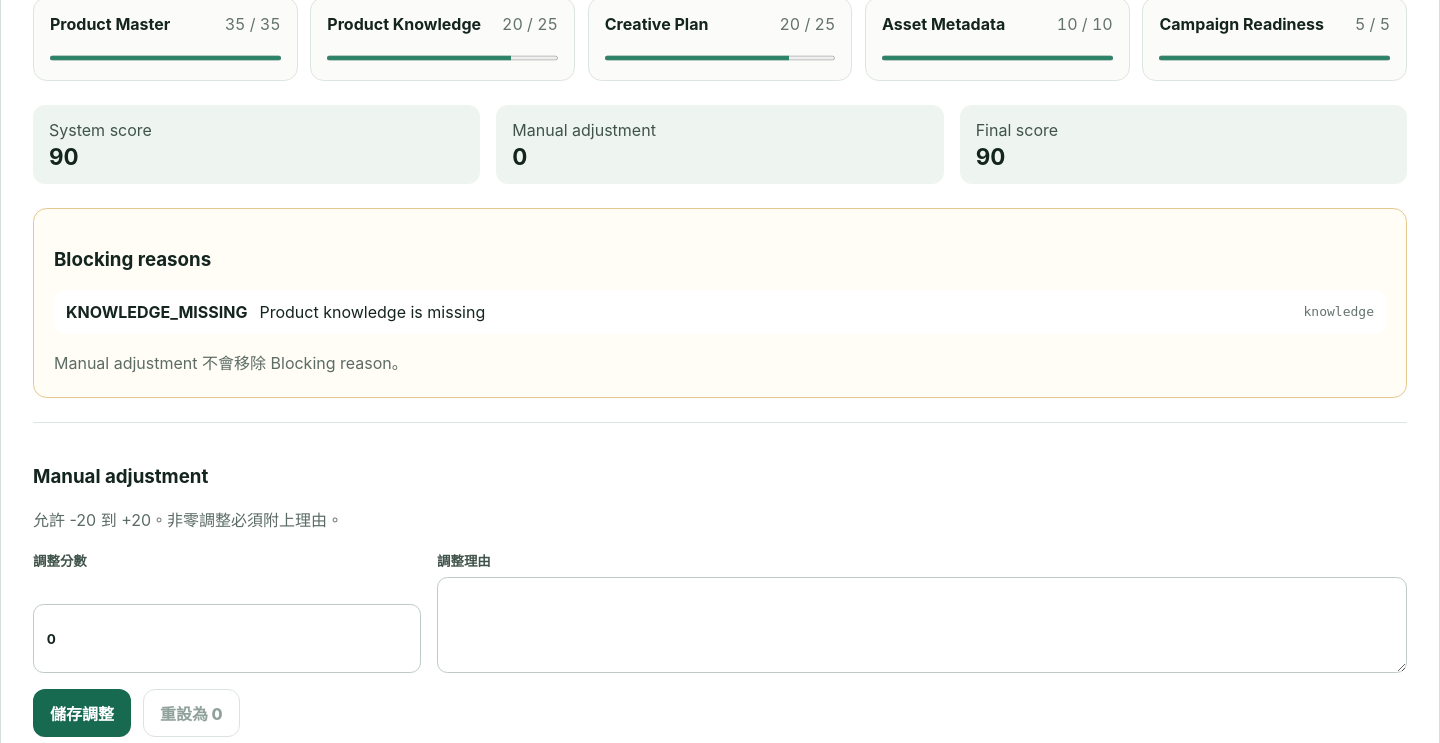
Test: QualityTab › submits a trimmed adjustment with the current ETag and updates the view
(page scrolled)
Replace the text in the number field labelled "調整分數" with "5": (227, 639) left=33, top=604, right=421, bottom=673
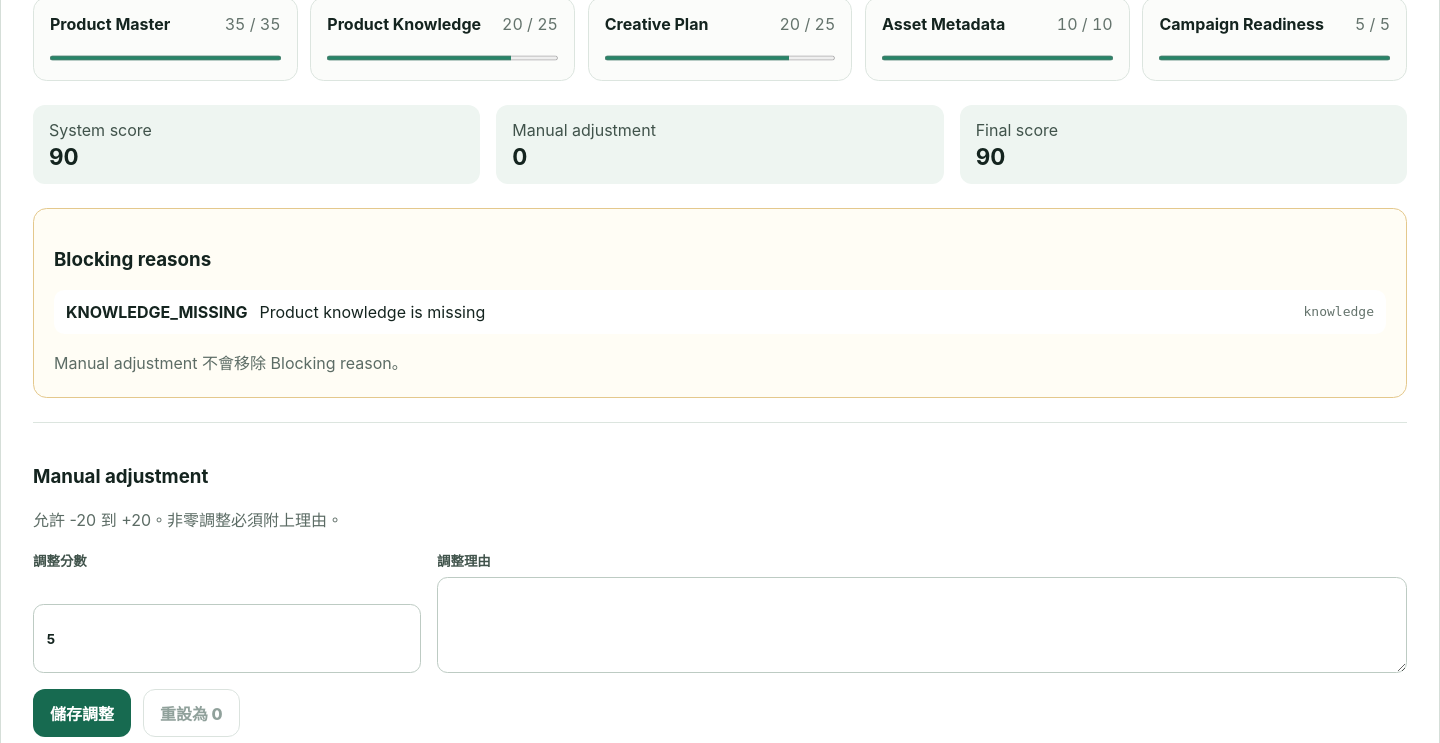
In the text box labelled "調整理由": (922, 625) left=437, top=577, right=1407, bottom=673, type "  Reviewed  "
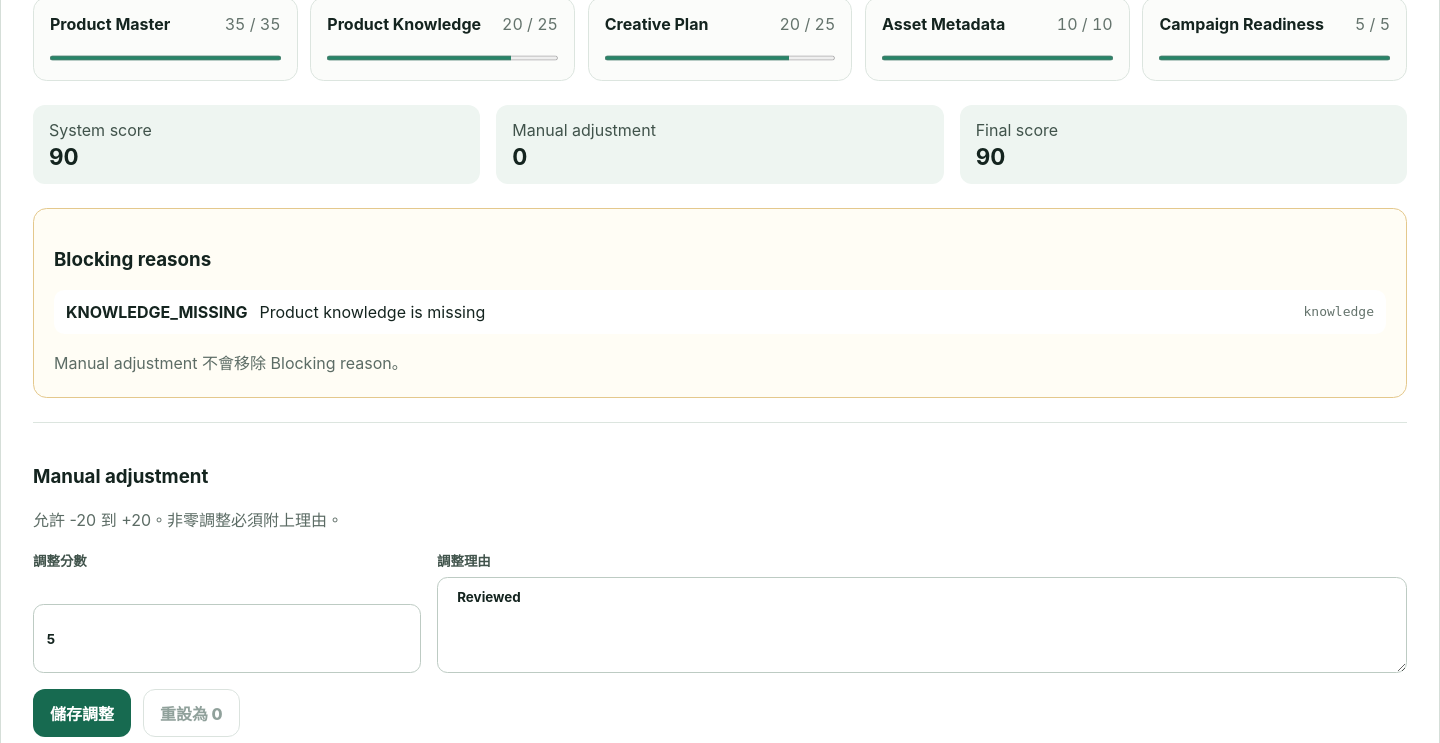
Click the button "儲存調整": (82, 713) left=33, top=689, right=131, bottom=737
(page scrolled)
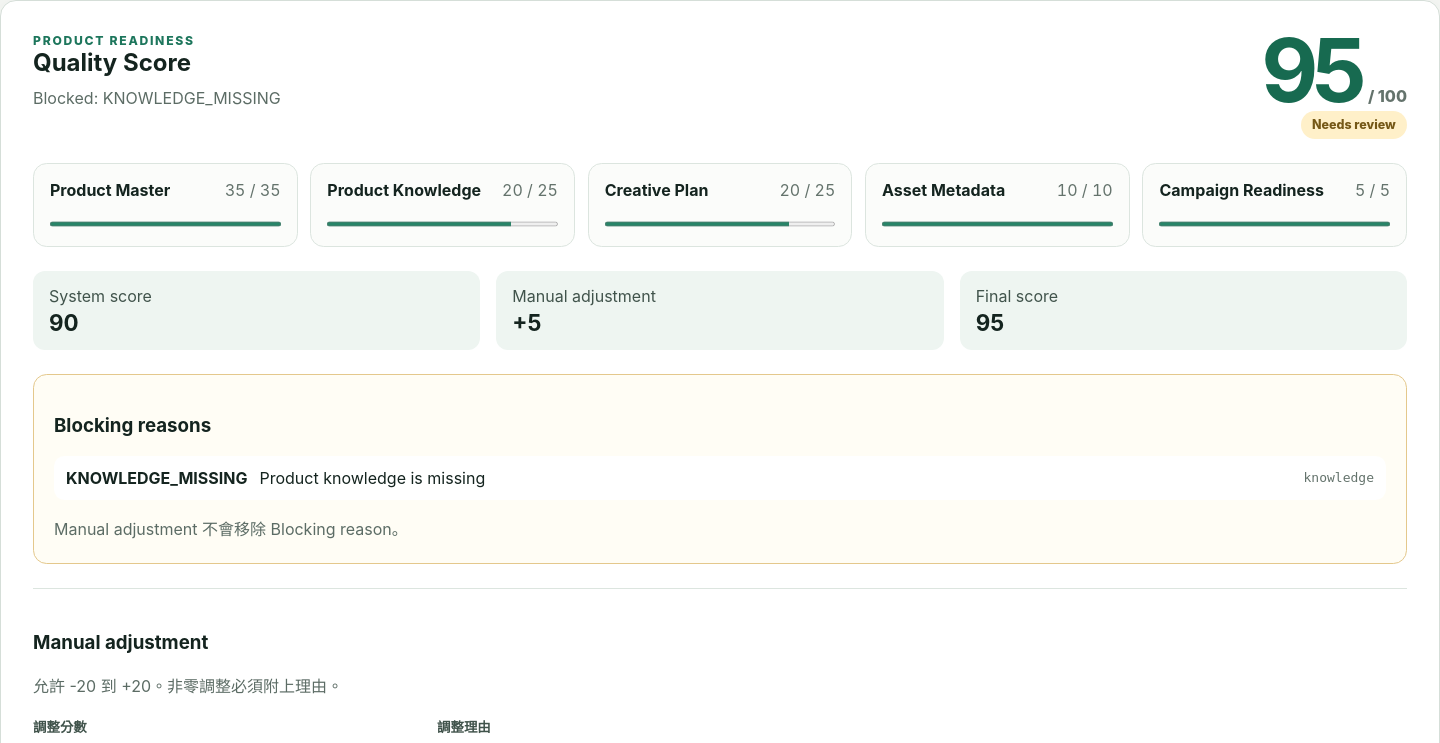
Now the element named "Final score 95 out of 100" is shown, box left=1261, top=33, right=1407, bottom=139
